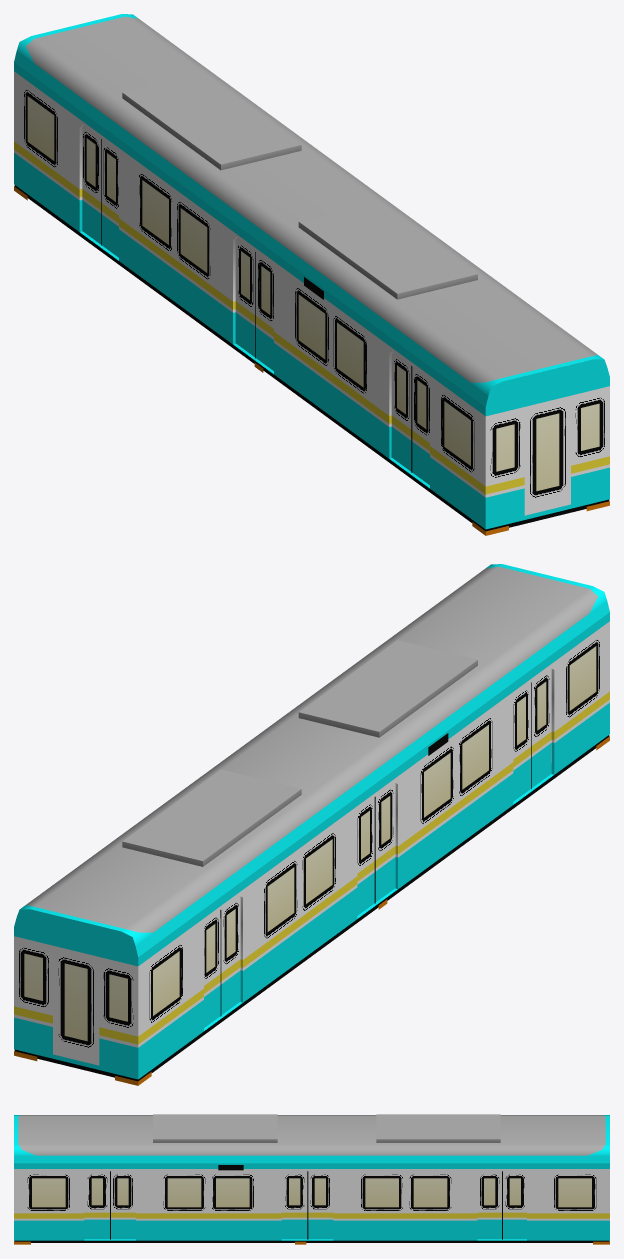
The model's file is KEIHAN800_2.glb.
3 renders of one model, top to bottom at view 1: azimuth 30°, elevation 25°; view 2: azimuth 150°, elevation 25°; view 3: azimuth 270°, elevation 25°, orthographic. The views are drawn at different scales.
Visible parts, largest first — view 1: body; view 2: body; view 3: body.
Boxes of the visible parts, x1=… form: body: x1=14, y1=14, x2=609, y2=535; body: x1=14, y1=564, x2=609, y2=1085; body: x1=14, y1=1114, x2=609, y2=1244.
Size of the model in its own units: 5.39 by 6.42 by 35.12.
8 materials, 8 textured.
